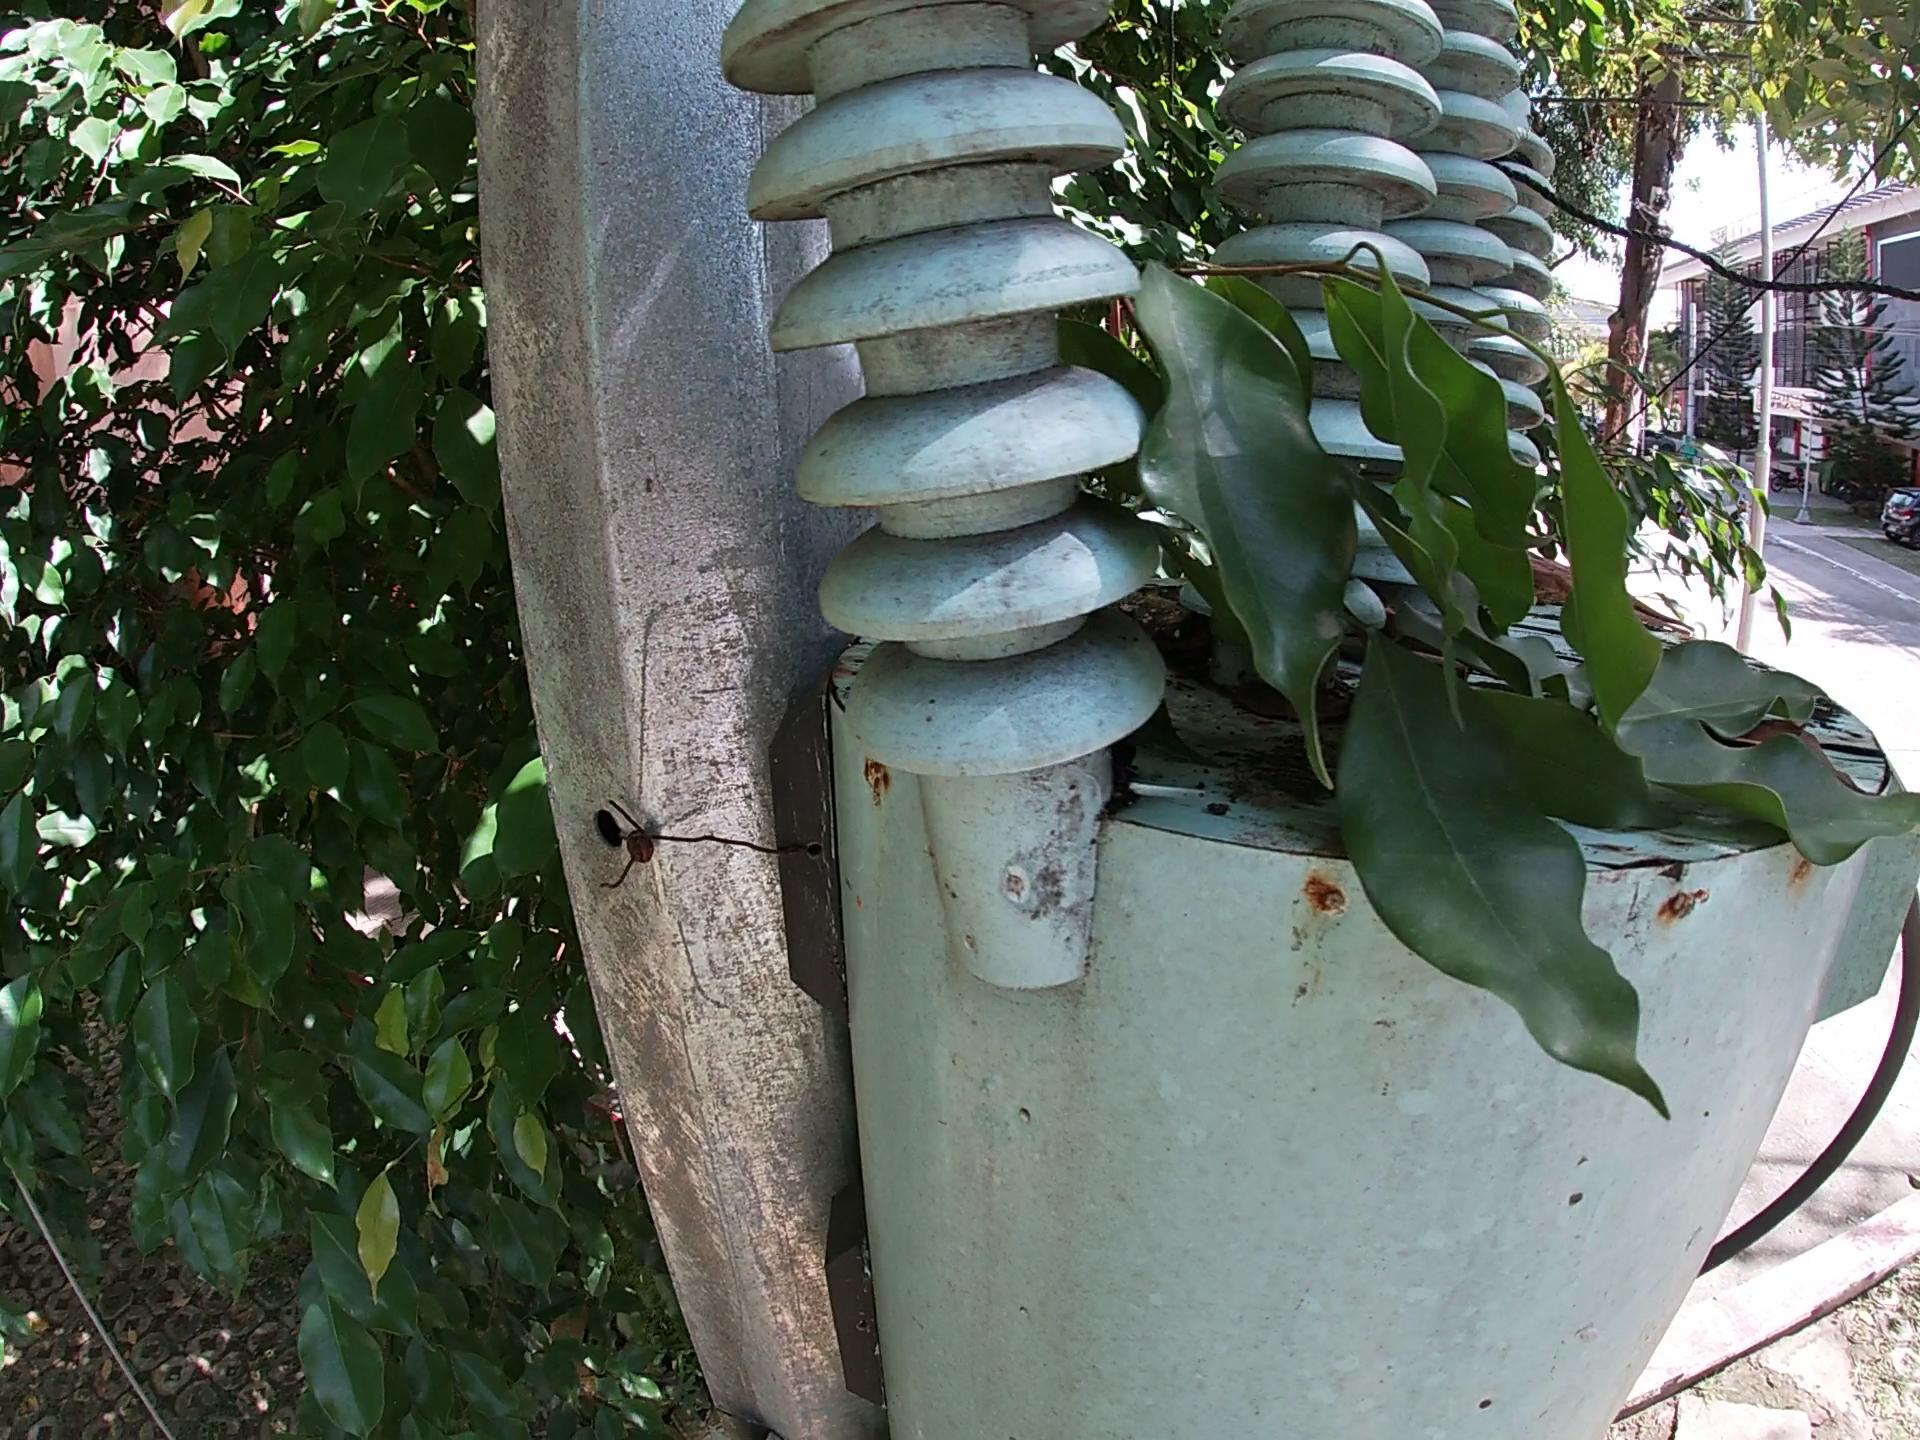branch with leaves: (1069, 219, 1900, 1134)
tree branch: (1509, 551, 1686, 635), (1126, 591, 1214, 653)
